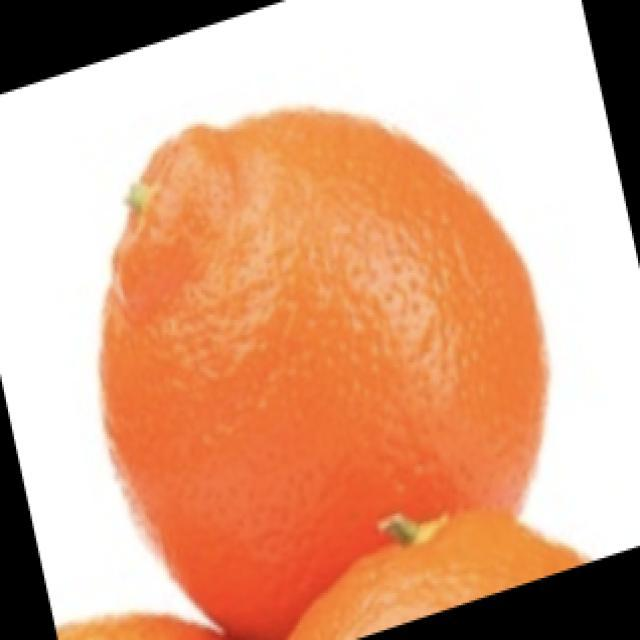matang: (102, 110, 545, 639)
